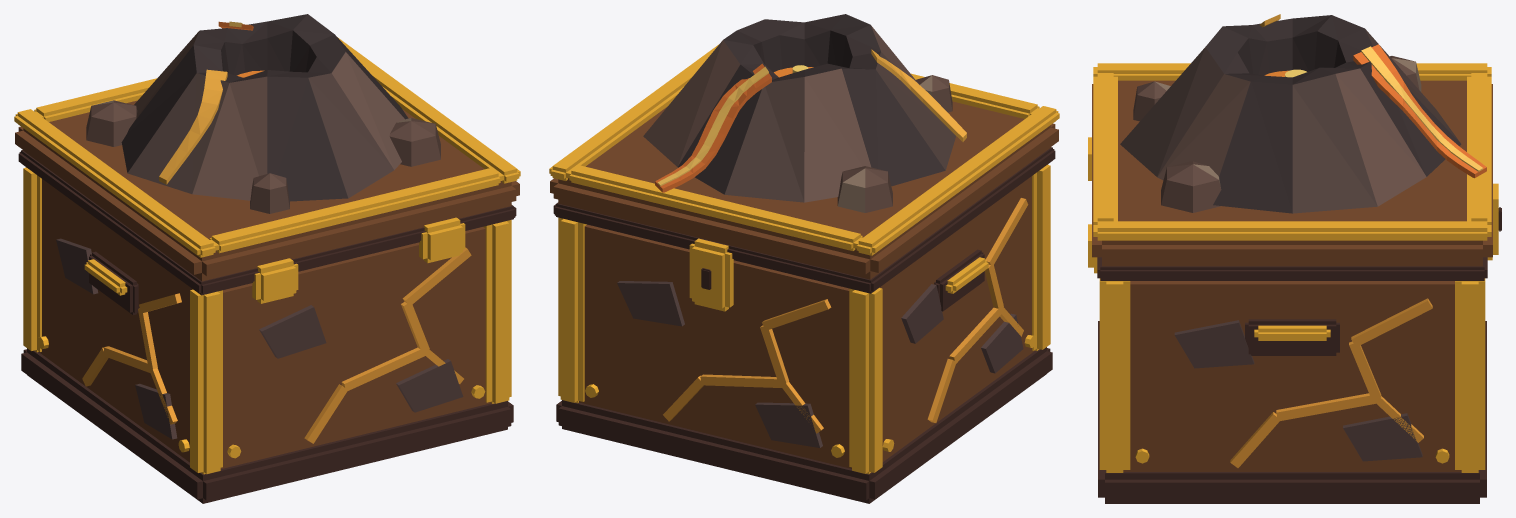
File: crate_vulcao.fbx
3 renders of one model, left to right at view 1: azimuth 30°, elevation 25°; view 2: azimuth 150°, elevation 25°; view 3: azimuth 270°, elevation 25°, orthographic. The views are drawn at different scales.
Parts seen in each view (by area): view 1: crate_vulcao_caixa, crate_vulcao_caixa_neon; view 2: crate_vulcao_caixa, crate_vulcao_caixa_neon; view 3: crate_vulcao_caixa, crate_vulcao_caixa_neon.
Boxes of the visible parts, <box> form: crate_vulcao_caixa: <box>14,14,520,503</box>; crate_vulcao_caixa_neon: <box>82,70,471,443</box>; crate_vulcao_caixa: <box>549,14,1059,503</box>; crate_vulcao_caixa_neon: <box>663,65,1028,433</box>; crate_vulcao_caixa: <box>1088,14,1501,503</box>; crate_vulcao_caixa_neon: <box>1230,69,1432,467</box>.
Bounding box in the file's own units: 2.68 × 2.75 × 2.7.
1 material, 1 textured.
